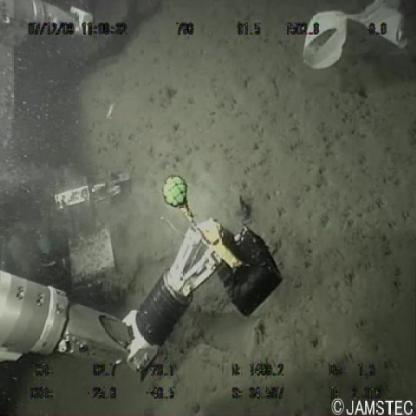Rov: (1, 1, 283, 383)
Rác: (296, 1, 412, 75)
